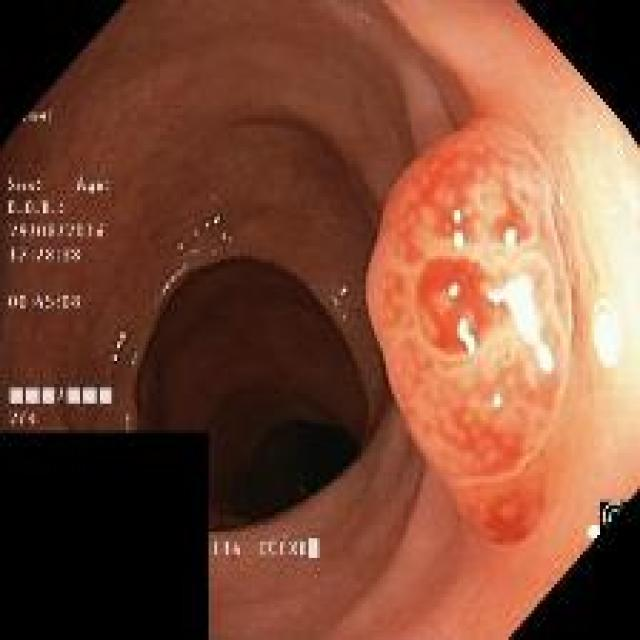Polyps: (369, 121, 574, 532)
